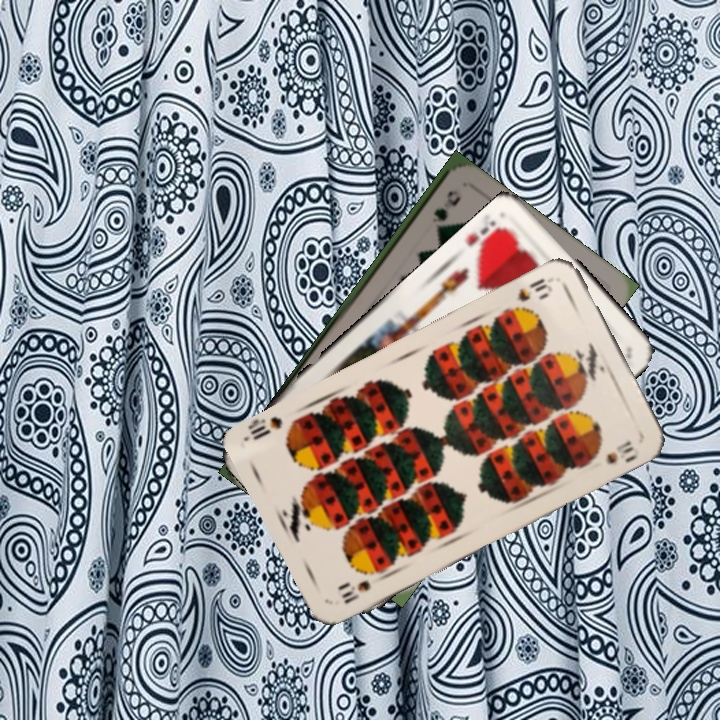G9: (428, 187, 462, 234)
HK: (461, 216, 510, 262)
S10: (513, 274, 555, 305), (334, 576, 373, 607)
